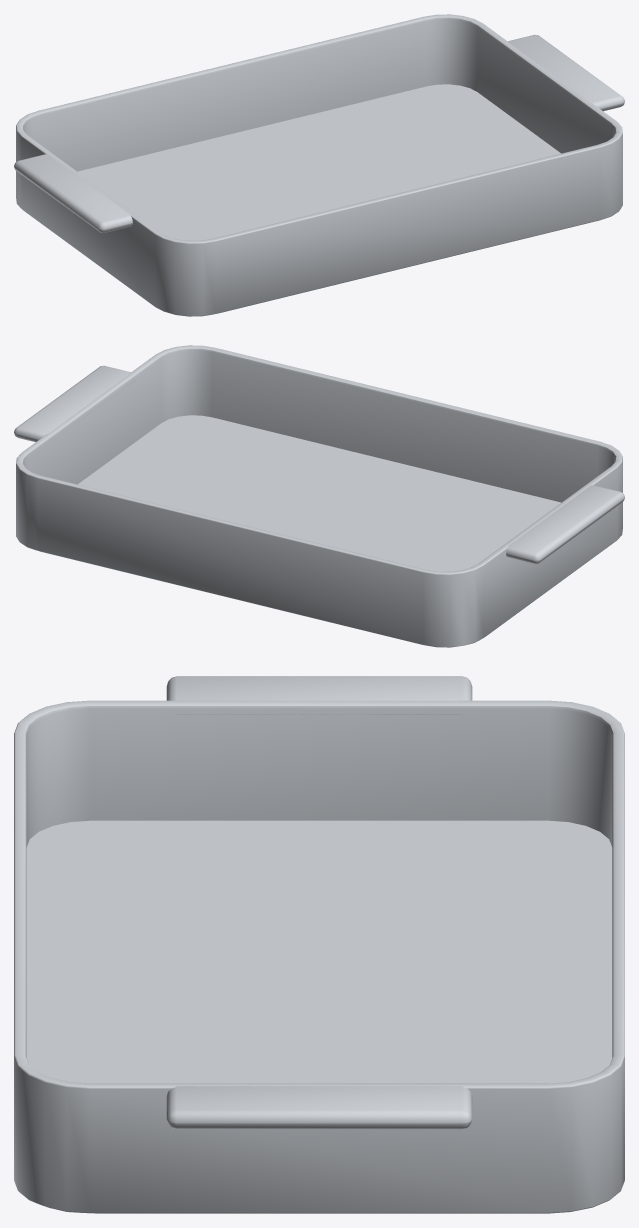
The model's file is assadeira_metal.glb.
3 renders of one model, top to bottom at view 1: azimuth 30°, elevation 25°; view 2: azimuth 150°, elevation 25°; view 3: azimuth 270°, elevation 25°, orthographic. The views are drawn at different scales.
Parts seen in each view (by area): view 1: assadeira_metal; view 2: assadeira_metal; view 3: assadeira_metal.
Boxes of the visible parts, x1,y1,x2,y2 form: assadeira_metal: [14, 14, 624, 316]; assadeira_metal: [14, 345, 624, 647]; assadeira_metal: [14, 676, 624, 1213].
Bounding box in the file's own units: 0.41 × 0.055 × 0.24.
Materials: 1 (1 with a texture image).
